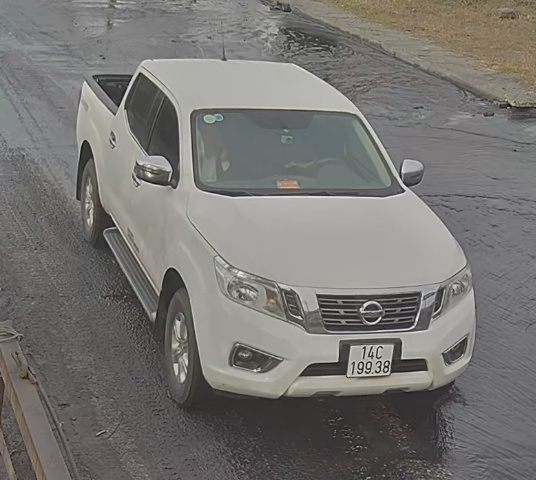vehicle plate: (340, 334, 392, 382)
